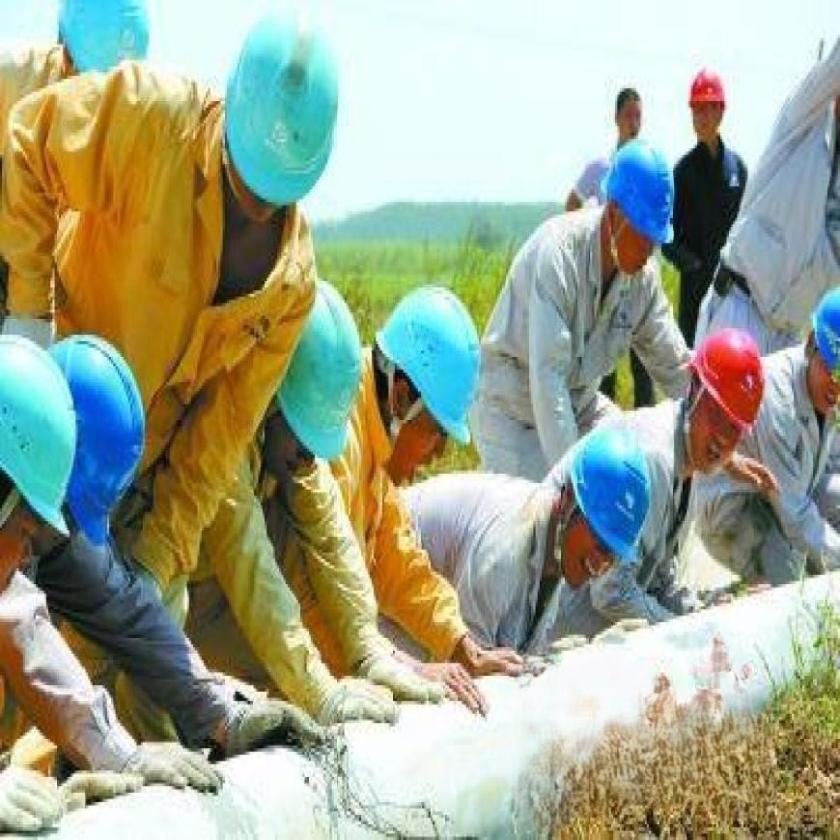Con_casco: (551, 408, 656, 622), (376, 273, 483, 477), (681, 310, 768, 506), (602, 132, 682, 290), (686, 61, 732, 148)
